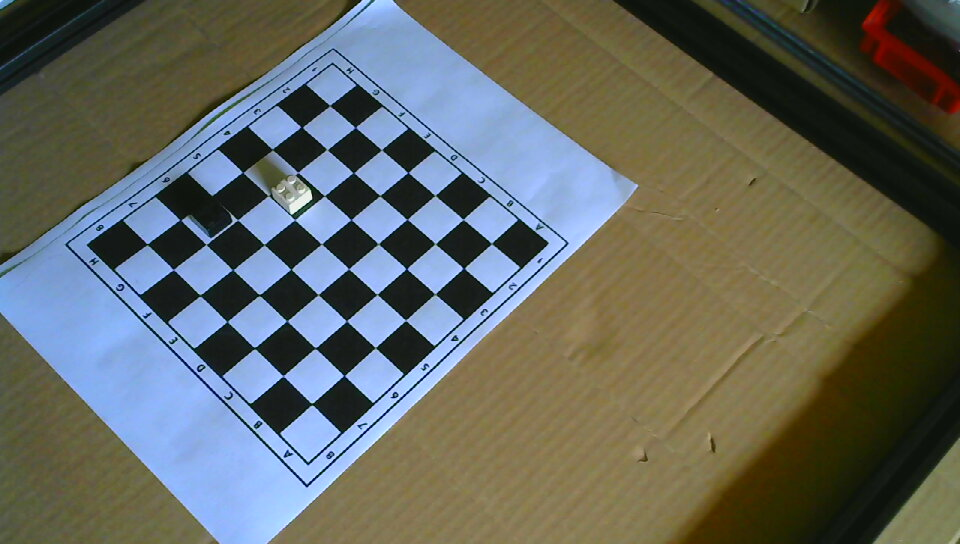bp: (186, 194, 234, 236)
wp: (269, 171, 314, 215)
